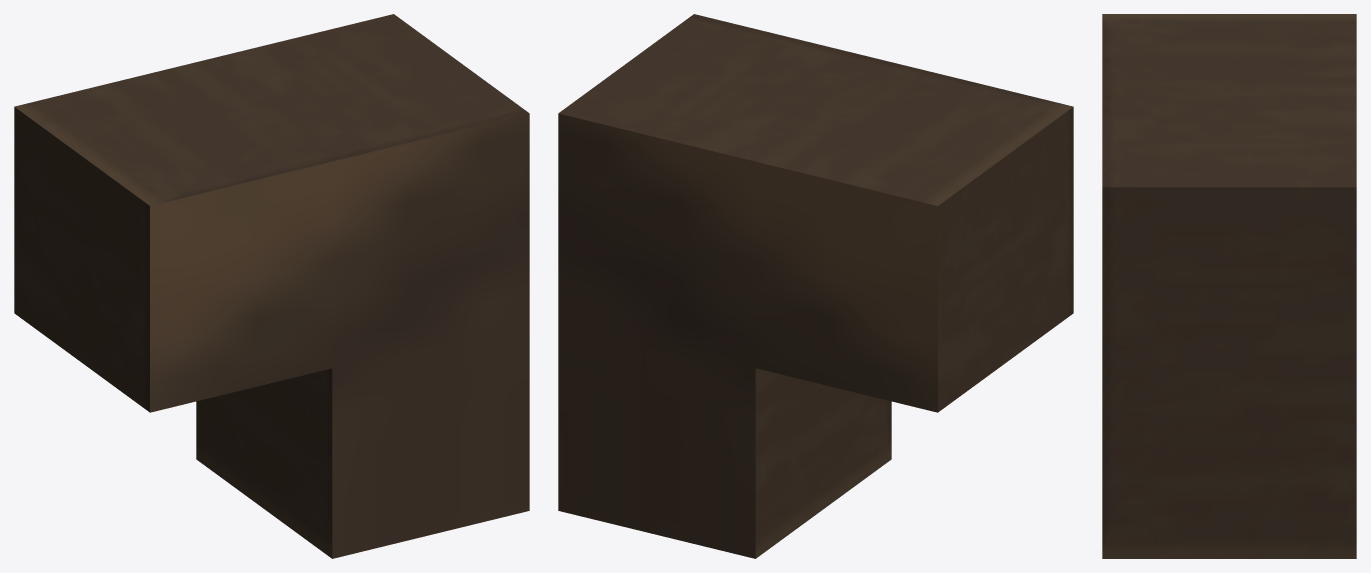
Rendered from pz_counter_wooden_wall_corner.obj.
3 renders of one model, left to right at view 1: azimuth 30°, elevation 25°; view 2: azimuth 150°, elevation 25°; view 3: azimuth 270°, elevation 25°, orthographic. The views are drawn at different scales.
Size of the model in its own units: 1 by 1 by 0.62.
Materials: 1 (1 with a texture image).
